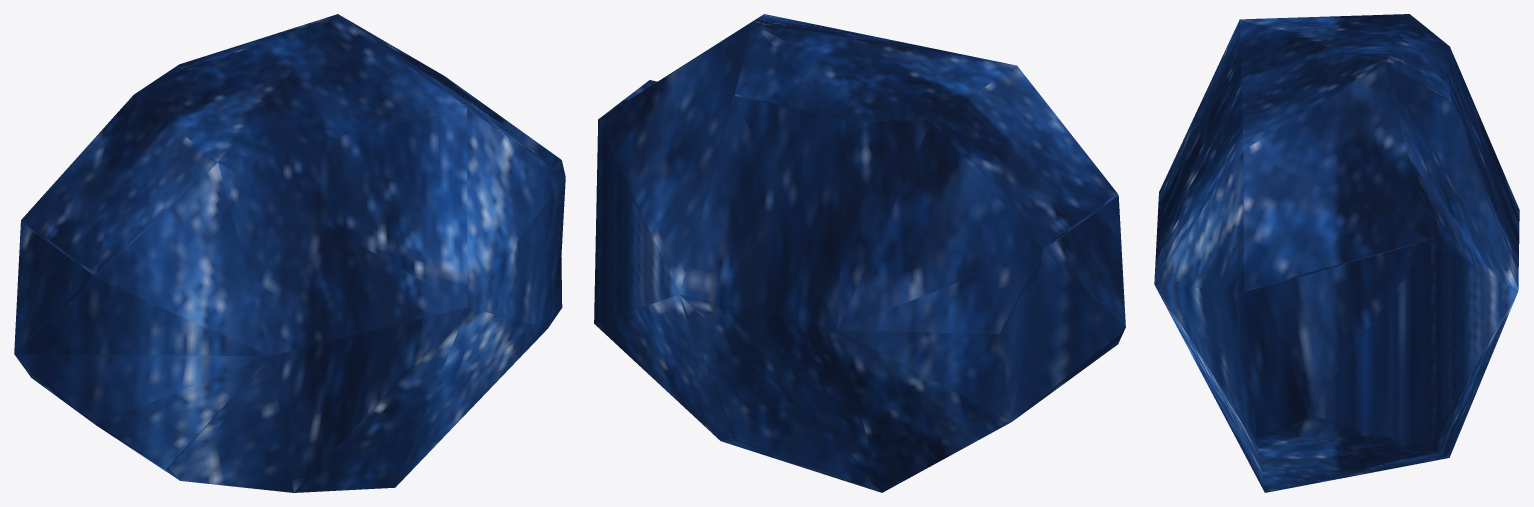
File: meteor_blue_silence_crystal_03.glb
3 renders of one model, left to right at view 1: azimuth 30°, elevation 25°; view 2: azimuth 150°, elevation 25°; view 3: azimuth 270°, elevation 25°, orthographic.
Visible parts, largest first — view 1: Mesh1.0; view 2: Mesh1.0; view 3: Mesh1.0.
Part boxes in pixels (left/top/right/bottom): Mesh1.0: left=14, top=14, right=565, bottom=492; Mesh1.0: left=594, top=14, right=1125, bottom=492; Mesh1.0: left=1154, top=14, right=1519, bottom=492.
Bounding box in the file's own units: 1.82 × 1.4 × 1.08.
1 material, 1 textured.
